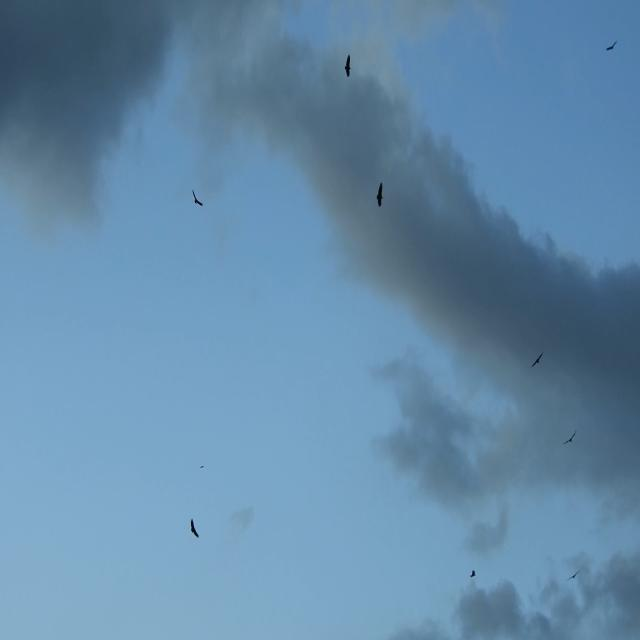bird: (373, 178, 387, 212), (342, 52, 354, 84), (529, 347, 545, 370), (560, 430, 579, 449), (187, 514, 200, 541), (190, 187, 202, 212), (604, 38, 620, 55), (566, 568, 584, 582), (470, 564, 478, 584)
